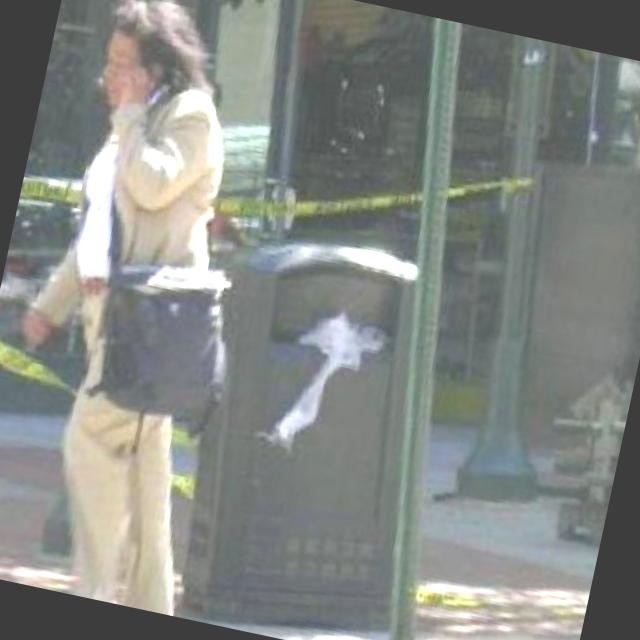Person: (0, 0, 293, 613)
